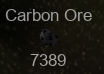Carbon: (5, 7, 93, 68)
